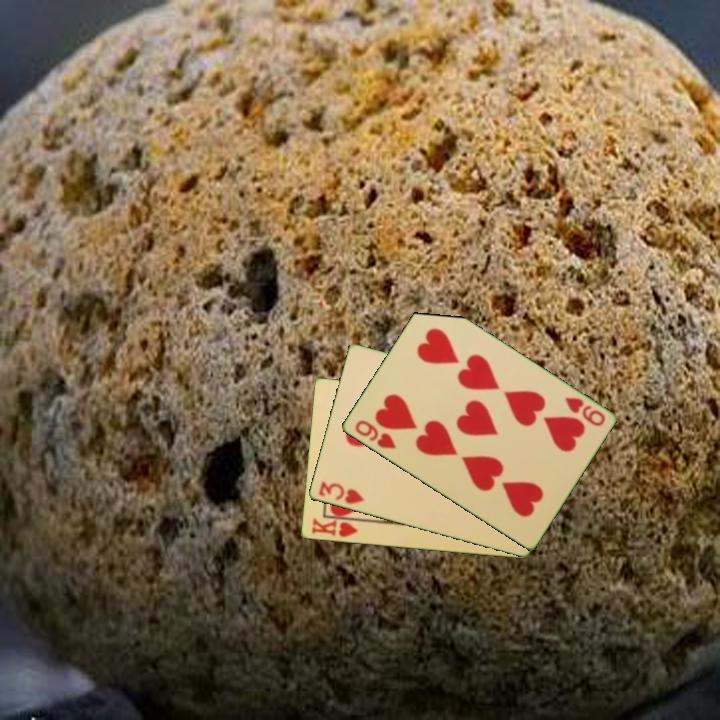3h: (315, 478, 367, 507)
9h: (351, 417, 399, 452), (561, 394, 608, 429)
Kh: (308, 514, 364, 540)
